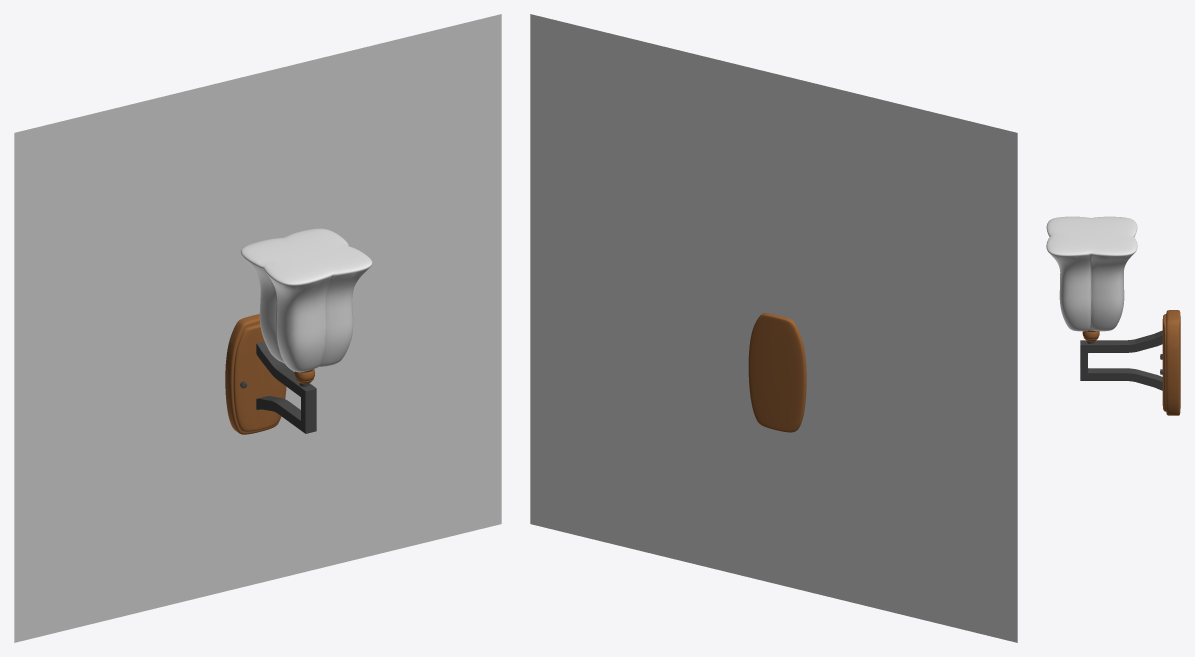
The model's file is uploads_files_3184532_Flower+wall+lamp.fbx.
The picture shows the model from 3 angles, left to right: view 1: azimuth 30°, elevation 25°; view 2: azimuth 150°, elevation 25°; view 3: azimuth 270°, elevation 25°; orthographic projection. The views are drawn at different scales.
Visible parts, largest first — view 1: Plane, Cube.003, Cube, Cube.001; view 2: Plane, Cube; view 3: Cube.003, Cube.001, Cube.
Part boxes in pixels (x1,y1,x2,y2): Plane: [14, 14, 501, 642]; Cube.003: [240, 228, 372, 372]; Cube: [225, 314, 286, 434]; Cube.001: [256, 341, 316, 433]; Plane: [530, 14, 1017, 642]; Cube: [748, 313, 806, 432]; Cube.003: [1046, 216, 1137, 331]; Cube.001: [1080, 330, 1162, 390]; Cube: [1162, 310, 1180, 415].
Size of the model in its own units: 895 by 895 by 254.
